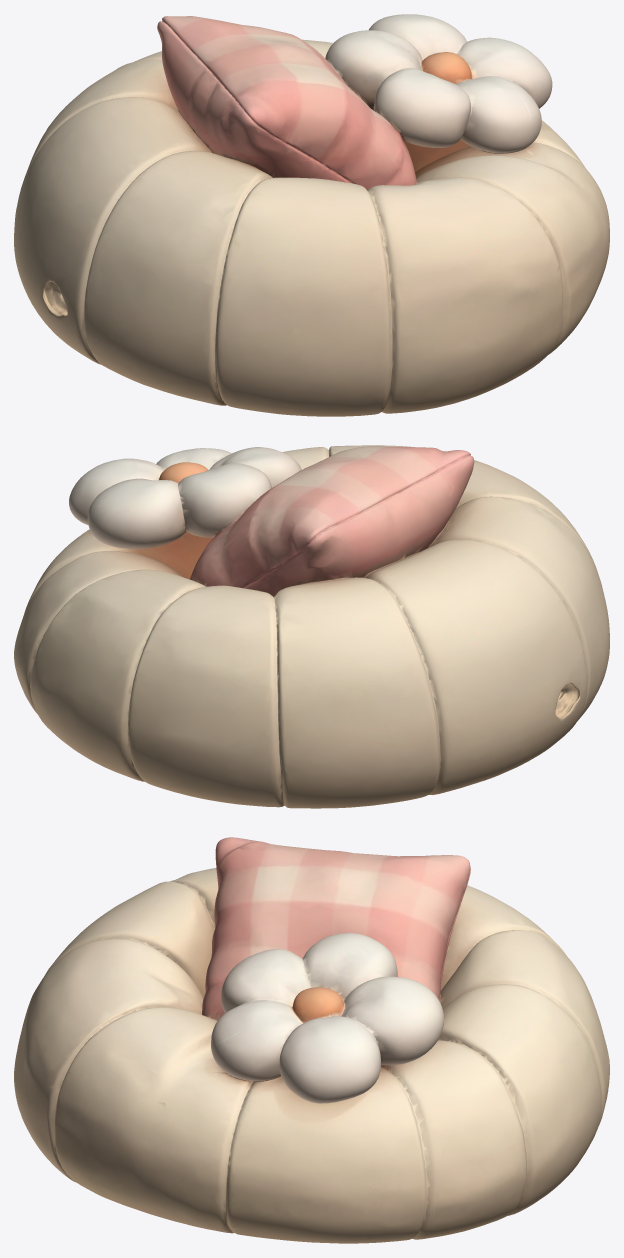
File: sofa-d1d19ce63f12.glb
3 renders of one model, top to bottom at view 1: azimuth 30°, elevation 25°; view 2: azimuth 150°, elevation 25°; view 3: azimuth 270°, elevation 25°, orthographic. The views are drawn at different scales.
Visible parts, largest first — view 1: tripo_node_be66bdac-b157-4906-a6ba-11ef193a6016; view 2: tripo_node_be66bdac-b157-4906-a6ba-11ef193a6016; view 3: tripo_node_be66bdac-b157-4906-a6ba-11ef193a6016.
Boxes of the visible parts, x1,y1,x2,y2 form: tripo_node_be66bdac-b157-4906-a6ba-11ef193a6016: [14, 14, 609, 416]; tripo_node_be66bdac-b157-4906-a6ba-11ef193a6016: [14, 445, 609, 808]; tripo_node_be66bdac-b157-4906-a6ba-11ef193a6016: [14, 837, 609, 1243].
Bounding box in the file's own units: 0.993 × 0.4885 × 0.9998.
Materials: 1 (1 with a texture image).
